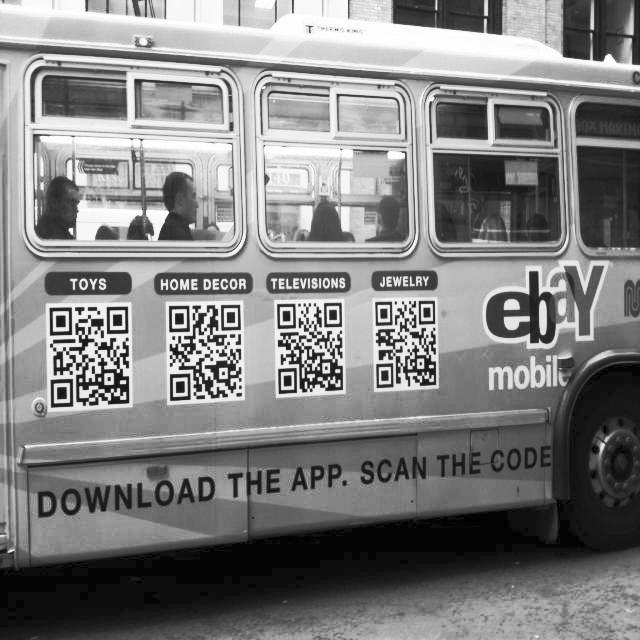qr_code: (50, 307, 130, 408), (169, 304, 242, 401), (277, 302, 343, 394), (375, 300, 436, 388)
